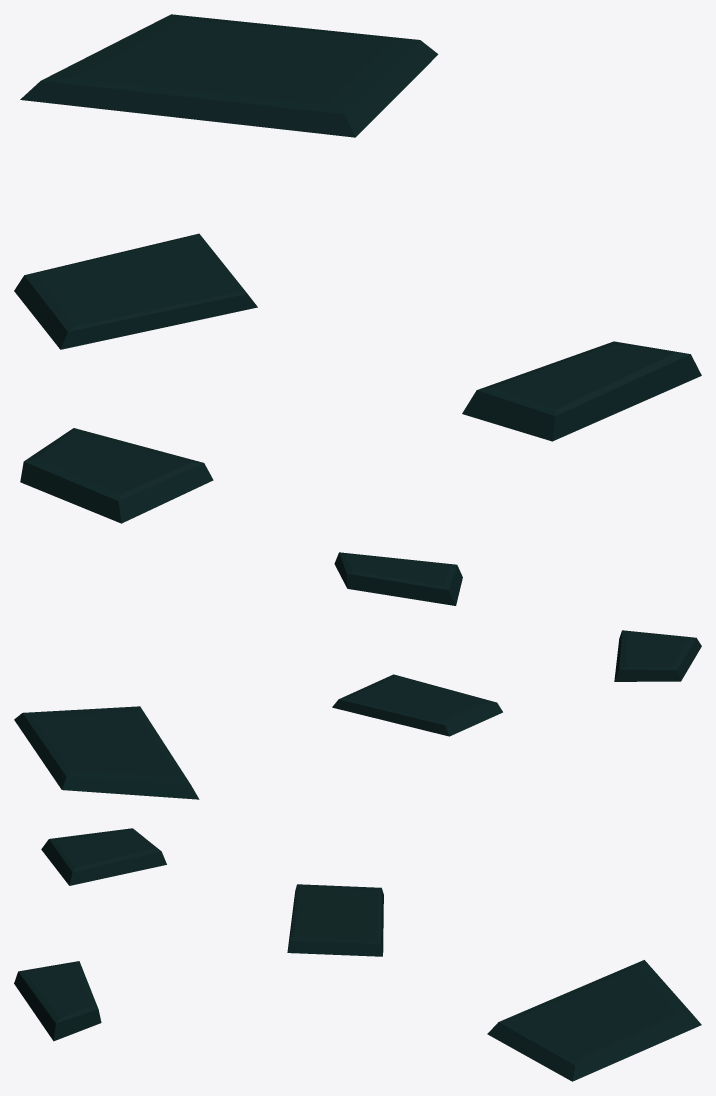
The model's file is rocks2_stone_0_lev1.glb.
3 views of the same model, one above another, from view 1: azimuth 30°, elevation 25°; view 2: azimuth 150°, elevation 25°; view 3: azimuth 270°, elevation 25° (orthographic). The views are drawn at different scales.
Visible parts, largest first — view 1: rocks2_stone_0_lev1; view 2: rocks2_stone_0_lev1; view 3: rocks2_stone_0_lev1.
Part boxes in pixels (left/top/right/bottom): rocks2_stone_0_lev1: left=14, top=14, right=701, bottom=523; rocks2_stone_0_lev1: left=14, top=552, right=701, bottom=799; rocks2_stone_0_lev1: left=14, top=828, right=701, bottom=1081.
Size of the model in its own units: 1.01 by 0.0316 by 1.21.
